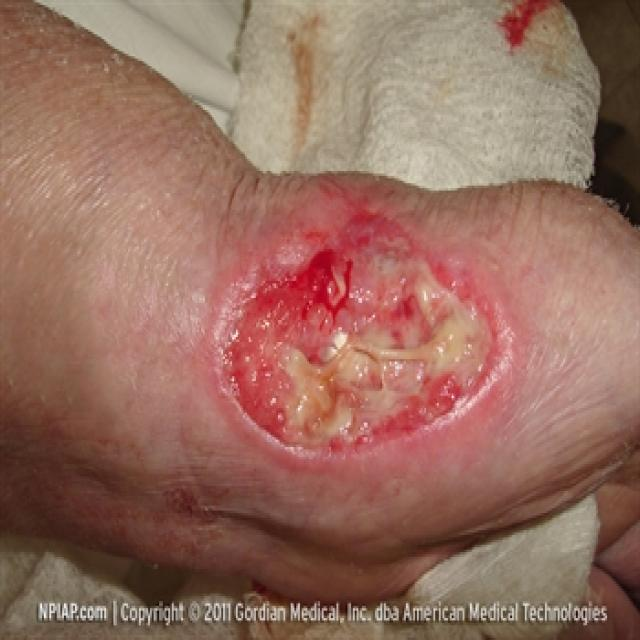stage-4: (235, 234, 486, 446)
